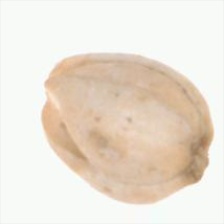L1: (38, 73, 78, 154), (185, 128, 213, 186)
L2: (41, 52, 213, 204)
